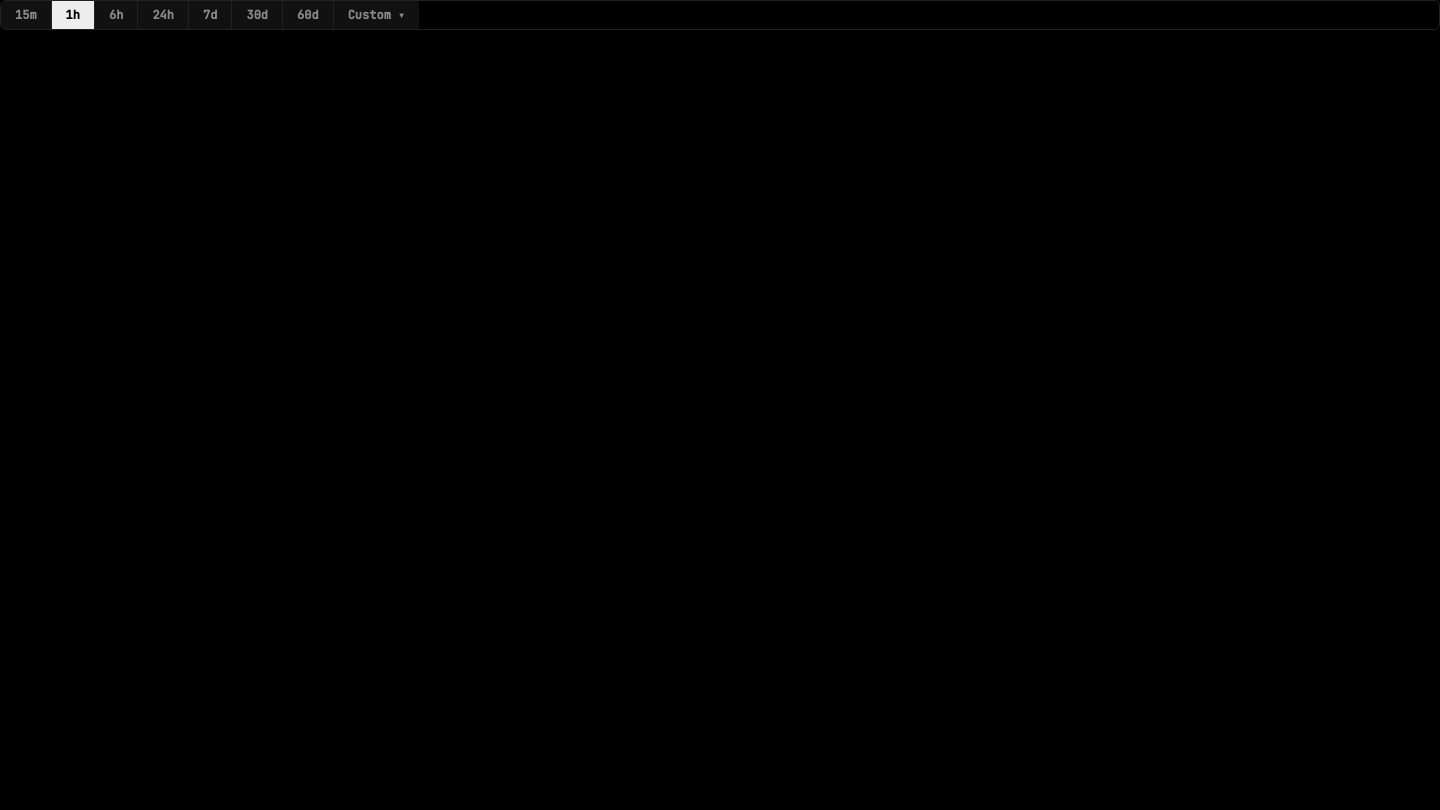
Test case: TimeRangeSelector › refreshes the default custom range when the popover opens
What coordinates should you click on to do the following:
click the button with test id "custom-toggle"
I would click on:
 (376, 15)
Its box is [334,1,419,29].
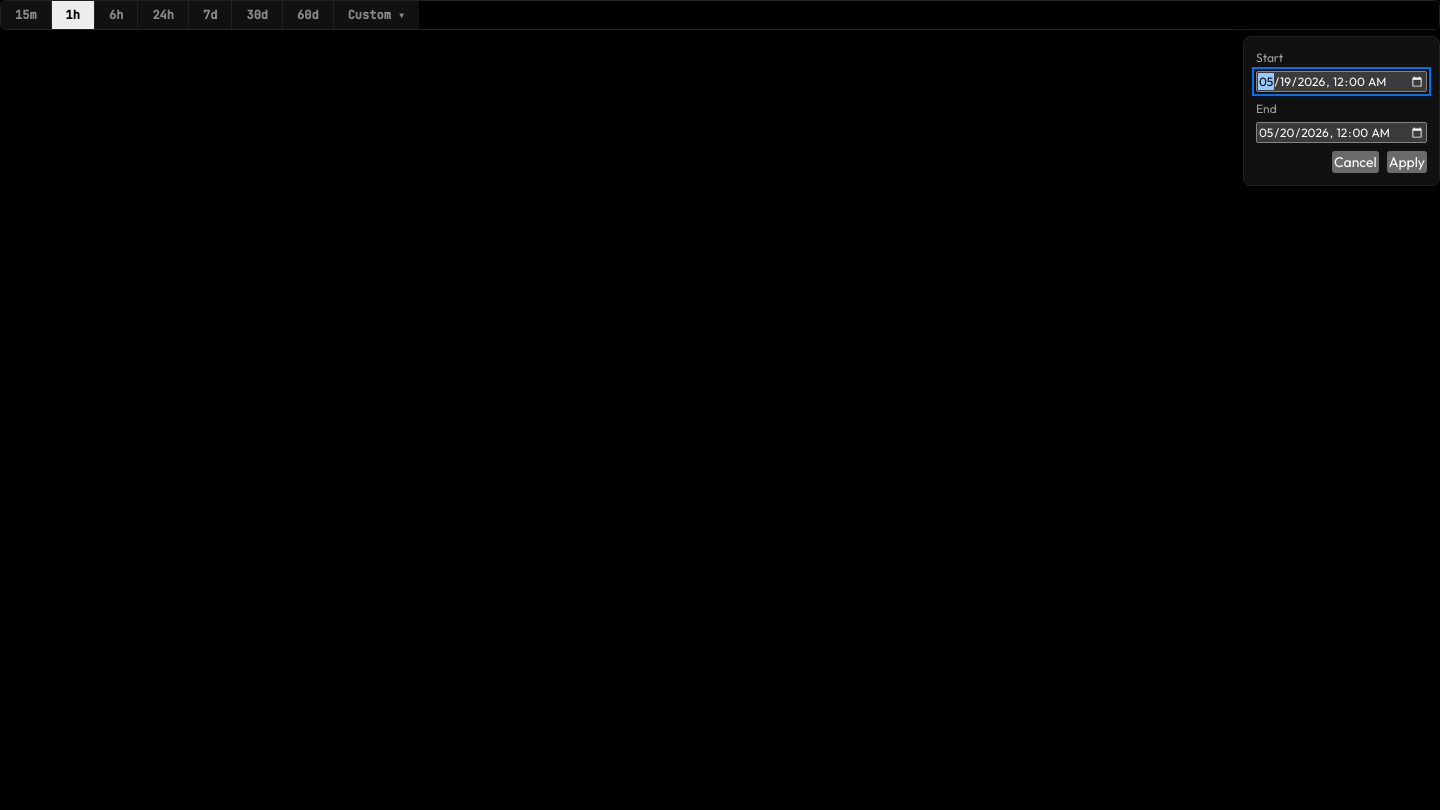
Now the field with test id "custom-start" holds "2026-05-19T00:00", box [1256,71,1427,92]
Now the field with test id "custom-end" holds "2026-05-20T00:00", box [1256,122,1427,143]
